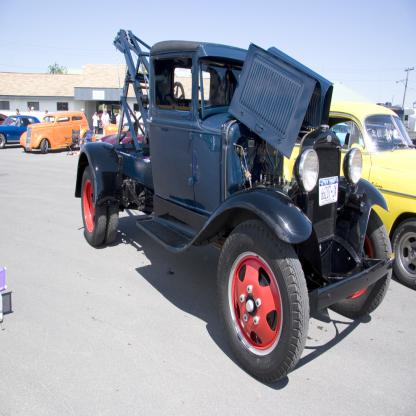Car: (73, 25, 399, 382), (283, 101, 416, 287), (10, 107, 90, 157), (0, 113, 40, 154), (330, 126, 363, 147)
